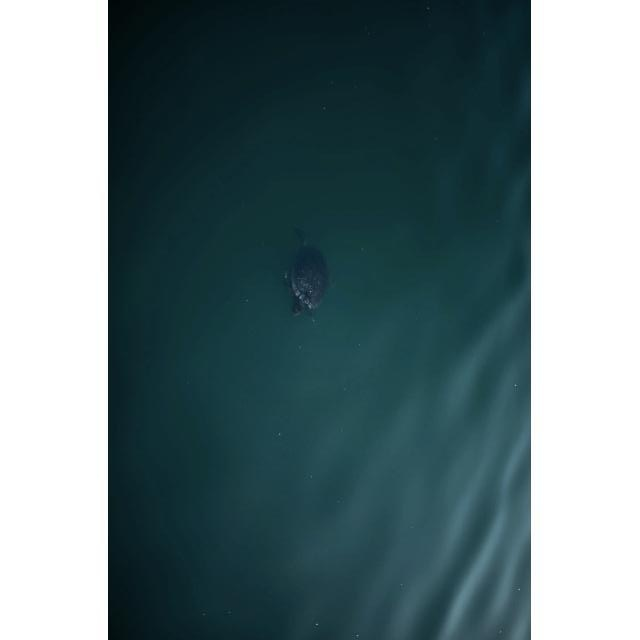turtle: (281, 226, 330, 319)
